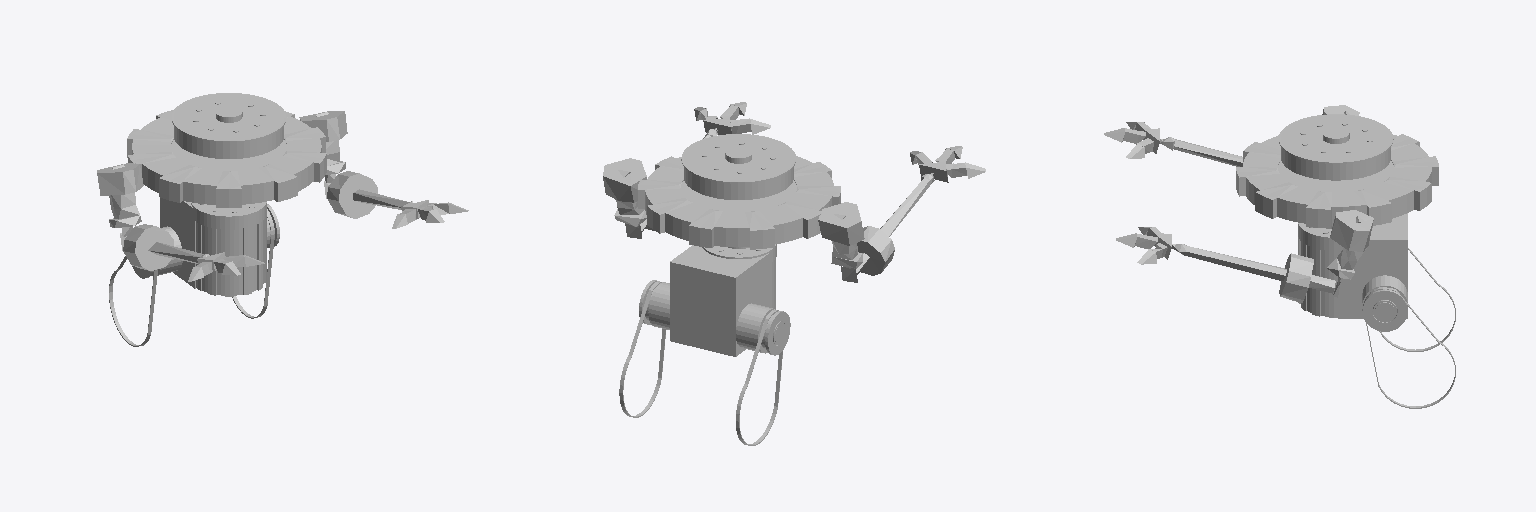
Rendered from RobotRece_000016.obj.
3 renders of one model, left to right at view 1: azimuth 30°, elevation 25°; view 2: azimuth 150°, elevation 25°; view 3: azimuth 270°, elevation 25°, orthographic.
Parts seen in each view (by area): view 1: Cylinder.007, Cube_Cube.003; view 2: Cylinder.007, Cube_Cube.003; view 3: Cylinder.007, Cube_Cube.003.
Boxes of the visible parts, x1=… form: Cylinder.007: x1=109, y1=93, x2=326, y2=346; Cube_Cube.003: x1=97, y1=111, x2=468, y2=281; Cylinder.007: x1=619, y1=134, x2=840, y2=445; Cube_Cube.003: x1=603, y1=102, x2=985, y2=282; Cylinder.007: x1=1236, y1=114, x2=1455, y2=408; Cube_Cube.003: x1=1104, y1=105, x2=1373, y2=302.
Size of the model in its own units: 4.59 by 3.78 by 4.89.